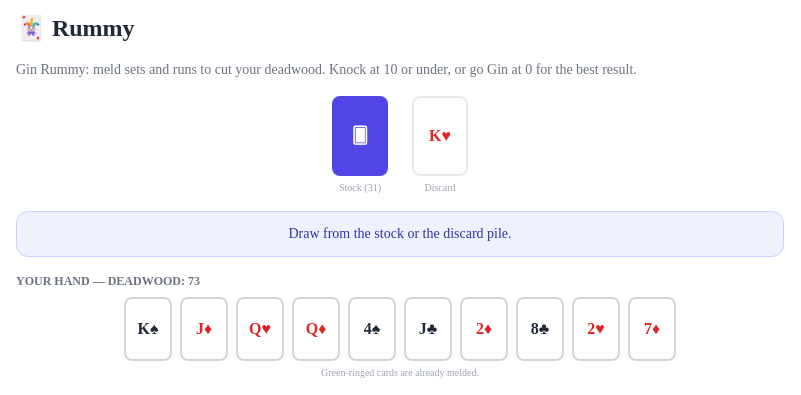
Test: RummyGame › lets the player draw from the stock, then discard to pass the turn
Click the button "🂠" at (360, 136), box [332,96,388,176]
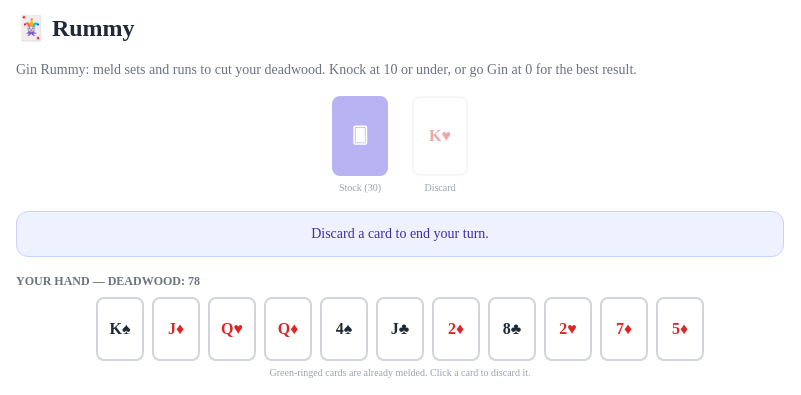
Result: the text "Discard a card to end your turn." is shown at [16,211,784,257]
Click the button "K♠" at (120, 329), box [96,297,144,361]
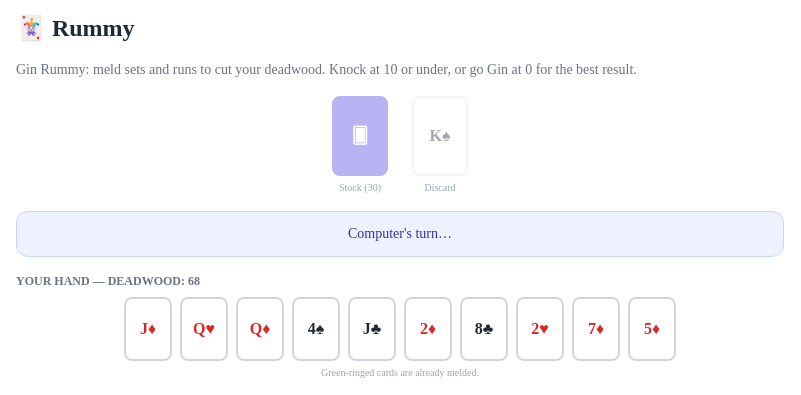
Result: the text "Discard a card to end your turn." is gone
